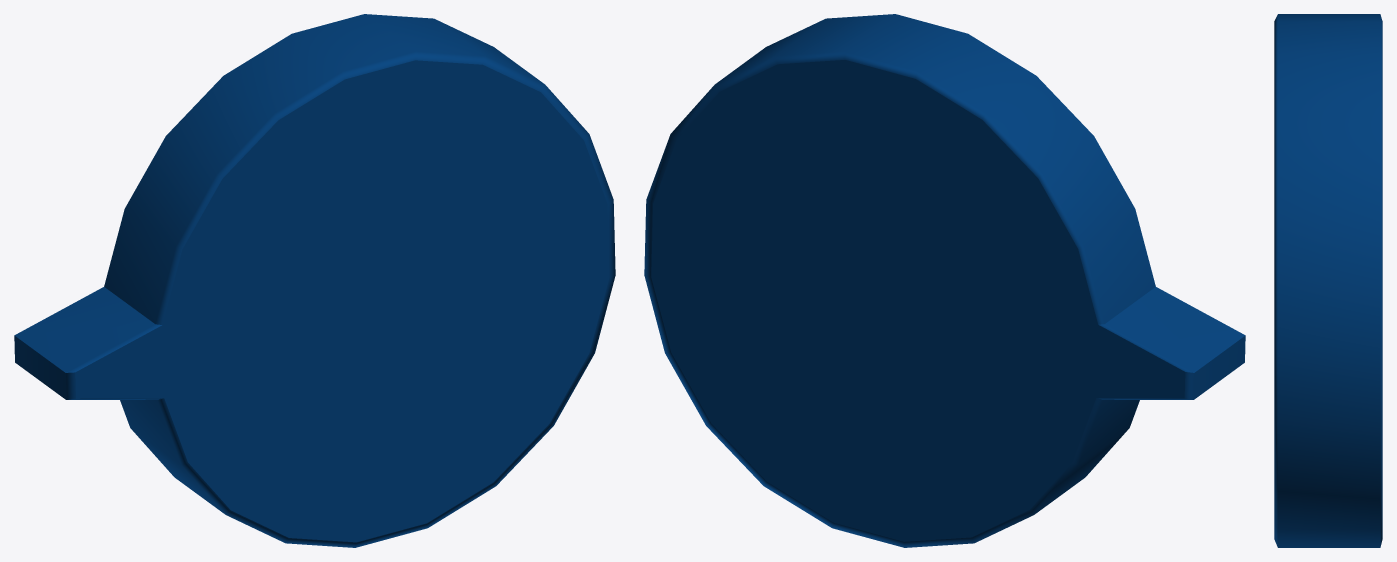
The model's file is Lever_Btn_Base.fbx.
The picture shows the model from 3 angles, left to right: view 1: azimuth 30°, elevation 25°; view 2: azimuth 150°, elevation 25°; view 3: azimuth 270°, elevation 25°; orthographic projection.
Parts seen in each view (by area): view 1: Lever_Btn_Base; view 2: Lever_Btn_Base; view 3: Lever_Btn_Base.
Part boxes in pixels (x1=…): Lever_Btn_Base: x1=14, y1=14, x2=615, y2=547; Lever_Btn_Base: x1=644, y1=14, x2=1245, y2=547; Lever_Btn_Base: x1=1274, y1=14, x2=1382, y2=547.
Size of the model in its own units: 11.96 by 10.01 by 2.04.
